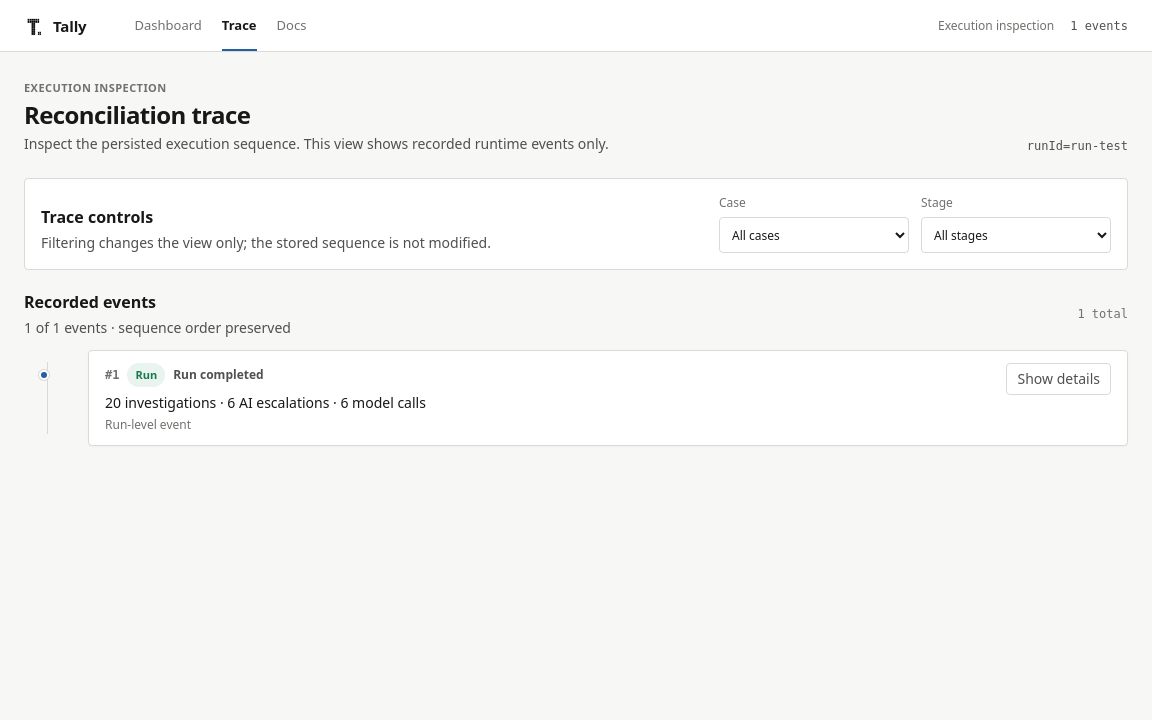
Scenario: T032 reconciliation trace › renders run workload metrics as an operational summary
expect the text "20 investigations · 6 AI escalations · 6 model calls" is shown: met, box x1=105 y1=393 x2=426 y2=413
Click the button "Show details". click: (1059, 379)
box: x1=1006 y1=363 x2=1111 y2=395
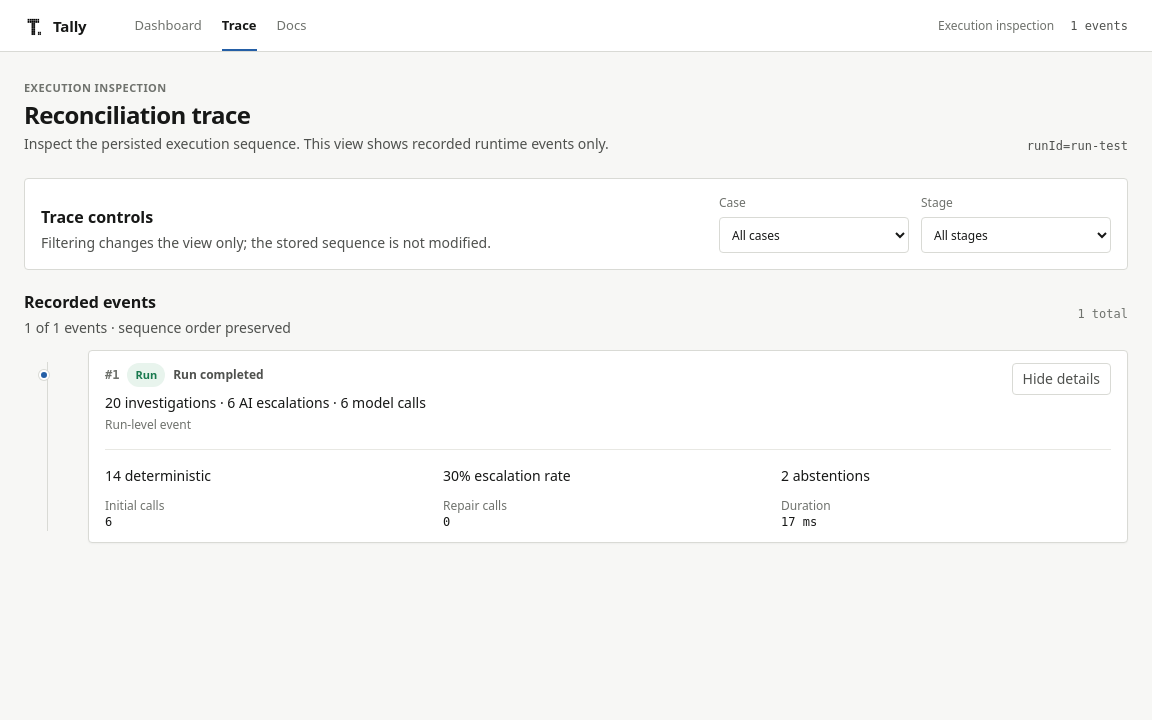
expect the text "30% escalation rate" is shown: met, box x1=443 y1=466 x2=571 y2=485
expect the text "14 deterministic" is shown: met, box x1=105 y1=466 x2=211 y2=485
expect the text "2 abstentions" is shown: met, box x1=781 y1=466 x2=870 y2=485
